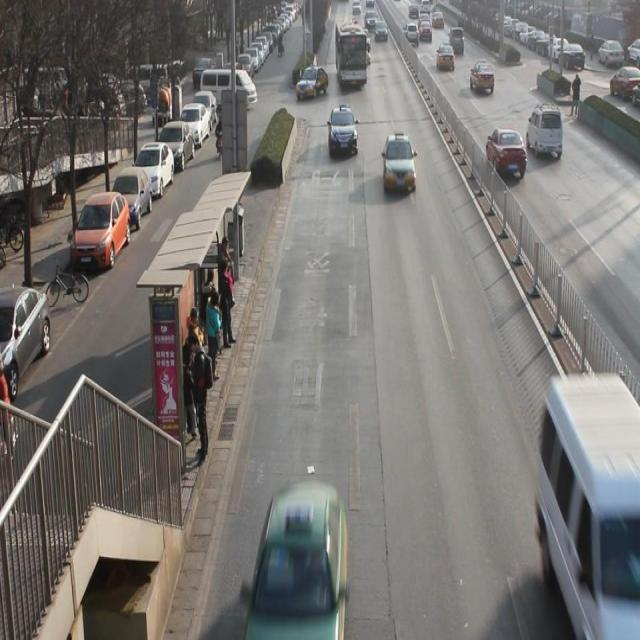car: (259, 482, 343, 630), (527, 104, 565, 164), (487, 127, 528, 182), (382, 132, 418, 194), (328, 108, 361, 157), (471, 58, 497, 98), (301, 66, 327, 98), (436, 44, 455, 70), (449, 26, 466, 55), (358, 40, 372, 70), (418, 19, 433, 41), (405, 25, 419, 44), (375, 22, 388, 40)
truck: (544, 380, 640, 627)
van: (335, 22, 366, 88)
